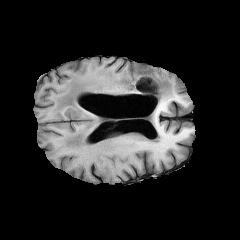glioma: (50, 70, 173, 149)
